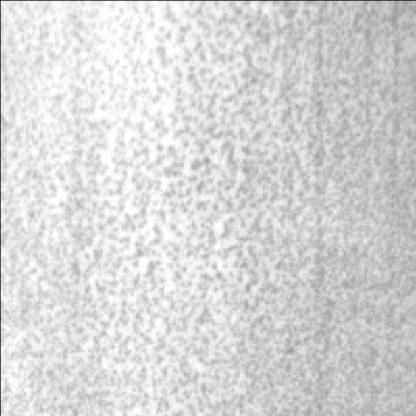pitted_surface: (4, 0, 416, 409)
